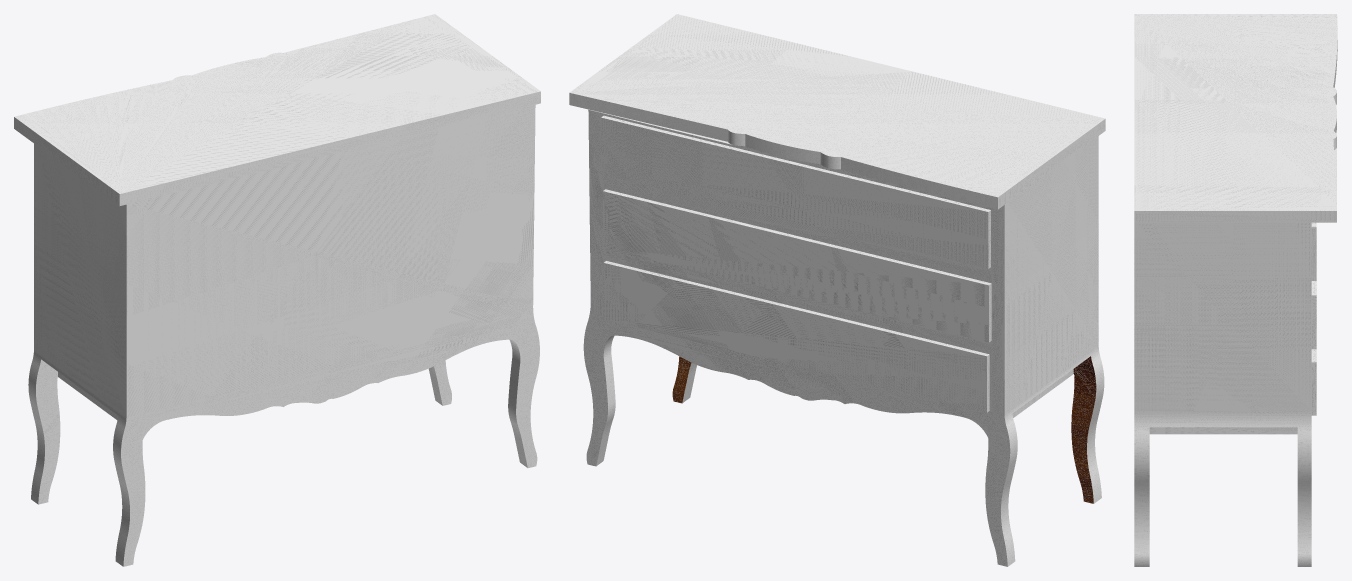
3 views of the same model, side by side, from view 1: azimuth 30°, elevation 25°; view 2: azimuth 150°, elevation 25°; view 3: azimuth 270°, elevation 25° (orthographic). The views are drawn at different scales.
Visible parts, largest first — view 1: mesh4_mesh4-geometry, mesh1_mesh1-geometry, mesh2_mesh2-geometry; view 2: mesh4_mesh4-geometry, mesh1_mesh1-geometry, mesh2_mesh2-geometry; view 3: mesh4_mesh4-geometry, mesh2_mesh2-geometry.
Part boxes in pixels (x1,y1,x2,y2): mesh4_mesh4-geometry: (14, 14, 540, 504); mesh1_mesh1-geometry: (113, 416, 145, 566); mesh2_mesh2-geometry: (508, 321, 539, 467); mesh4_mesh4-geometry: (569, 14, 1105, 566); mesh1_mesh1-geometry: (1071, 350, 1104, 503); mesh2_mesh2-geometry: (672, 356, 696, 403); mesh4_mesh4-geometry: (1134, 14, 1337, 566); mesh2_mesh2-geometry: (1134, 427, 1149, 566).
Size of the model in its own units: 0.7238 by 0.6137 by 0.3155.
